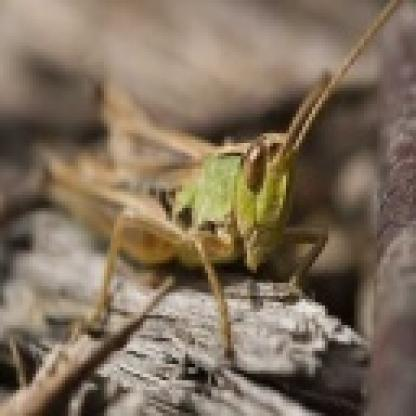grasshopper: (28, 19, 394, 349)
